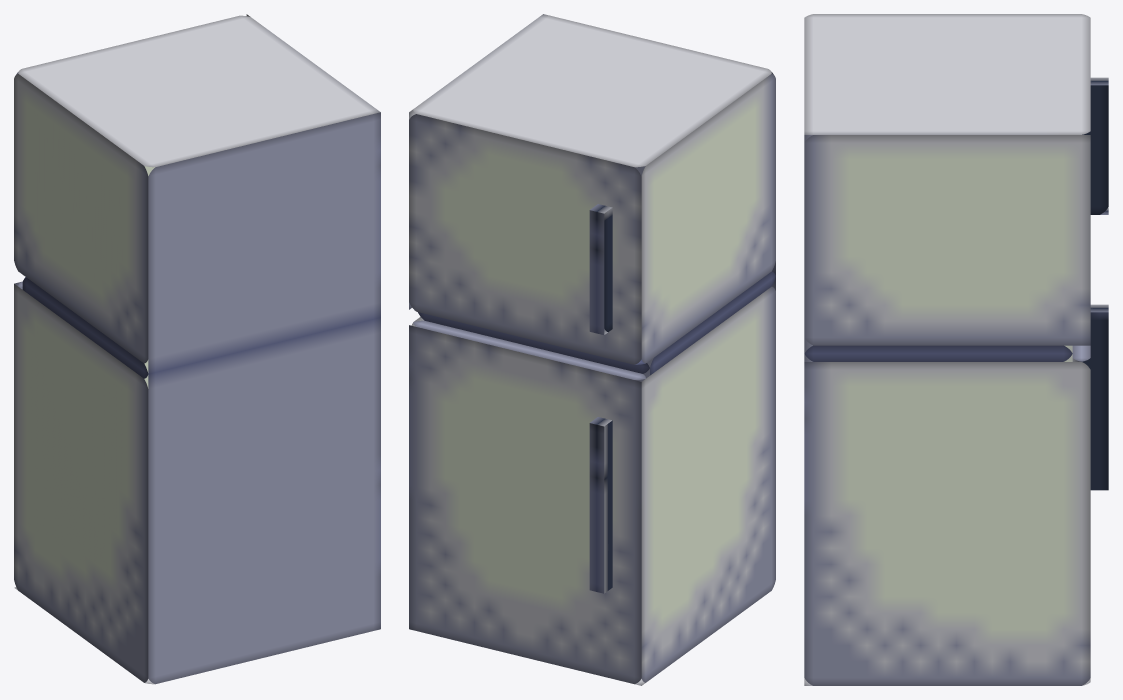
The model's file is fridge.fbx.
3 views of the same model, side by side, from view 1: azimuth 30°, elevation 25°; view 2: azimuth 150°, elevation 25°; view 3: azimuth 270°, elevation 25° (orthographic). The views are drawn at different scales.
Parts seen in each view (by area): view 1: cube; view 2: cube, cube_1, cube_2; view 3: cube, cube_1, cube_2.
Part boxes in pixels (left/top/right/bottom): cube: left=14, top=14, right=380, bottom=684; cube: left=409, top=14, right=775, bottom=685; cube_1: left=589, top=417, right=612, bottom=593; cube_2: left=589, top=204, right=612, bottom=334; cube: left=804, top=14, right=1090, bottom=685; cube_1: left=1072, top=304, right=1108, bottom=490; cube_2: left=1082, top=77, right=1108, bottom=214.
Bounding box in the file's own units: 100 × 212 × 106.
Materials: 1 (1 with a texture image).
